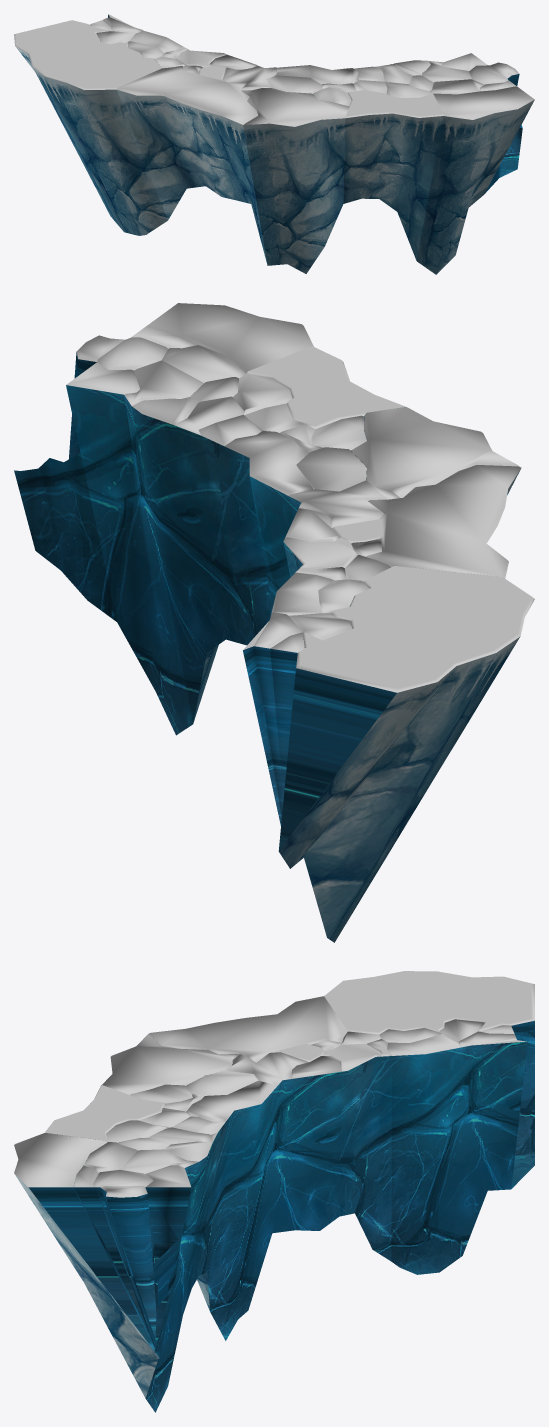
File: IceEdge2.fbx
The picture shows the model from 3 angles, top to bottom: view 1: azimuth 30°, elevation 25°; view 2: azimuth 150°, elevation 25°; view 3: azimuth 270°, elevation 25°; orthographic projection. The views are drawn at different scales.
Visible parts, largest first — view 1: icecrownraid_arthas_precipice_phase1_quad2; view 2: icecrownraid_arthas_precipice_phase1_quad2; view 3: icecrownraid_arthas_precipice_phase1_quad2.
Boxes of the visible parts, box(x1,y1,x2,y2) form: icecrownraid_arthas_precipice_phase1_quad2: box(14, 14, 534, 274); icecrownraid_arthas_precipice_phase1_quad2: box(14, 303, 534, 942); icecrownraid_arthas_precipice_phase1_quad2: box(14, 971, 534, 1412).
Bounding box in the file's own units: 8007 × 4018 × 7352.
